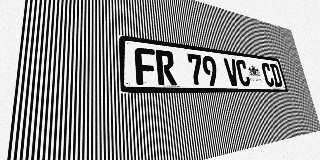7: (186, 53, 206, 86)
9: (201, 55, 220, 86)
C: (235, 59, 251, 86), (261, 62, 275, 87)
D: (269, 63, 283, 87)
F: (134, 47, 158, 85)
R: (155, 49, 177, 85)
V: (223, 58, 240, 86)
